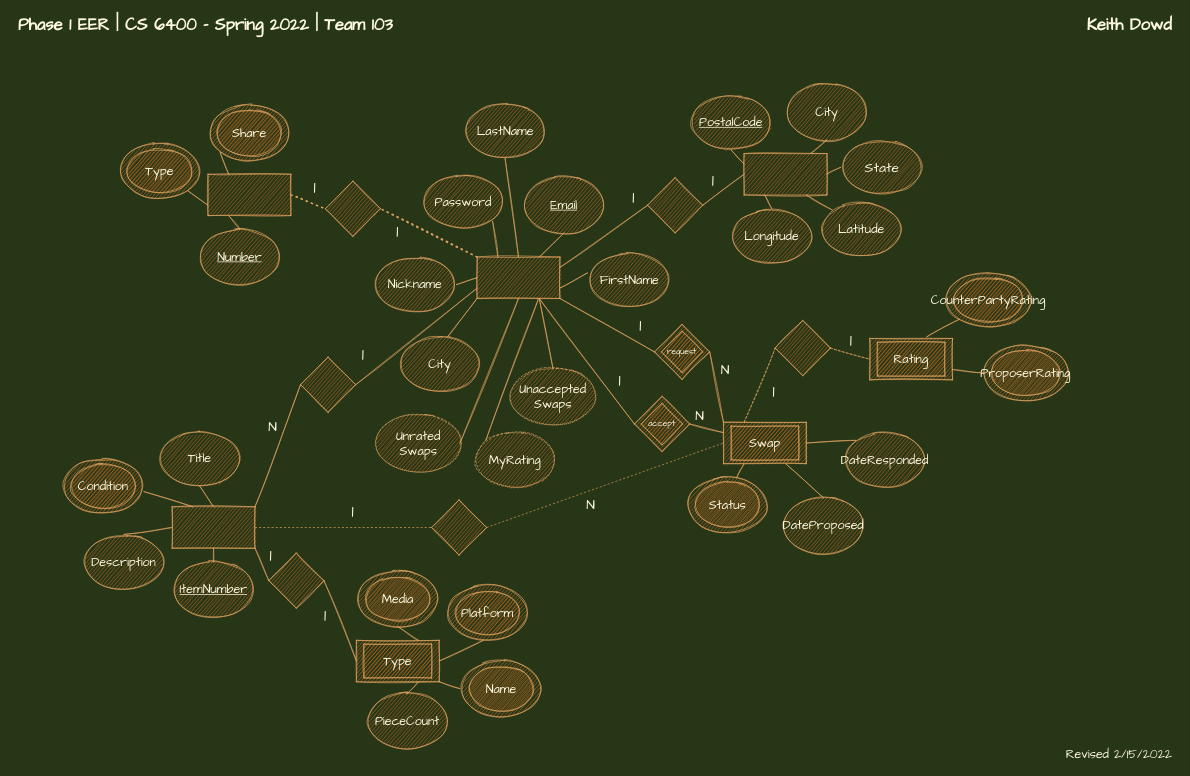
This 1190x776 diagram has some shape labels left out. Each missing label, with the centre of its shape:
"Address" goes at (785,174).
"Item" goes at (213,527).
"Phone" goes at (249,195).
"User" goes at (518,277).
